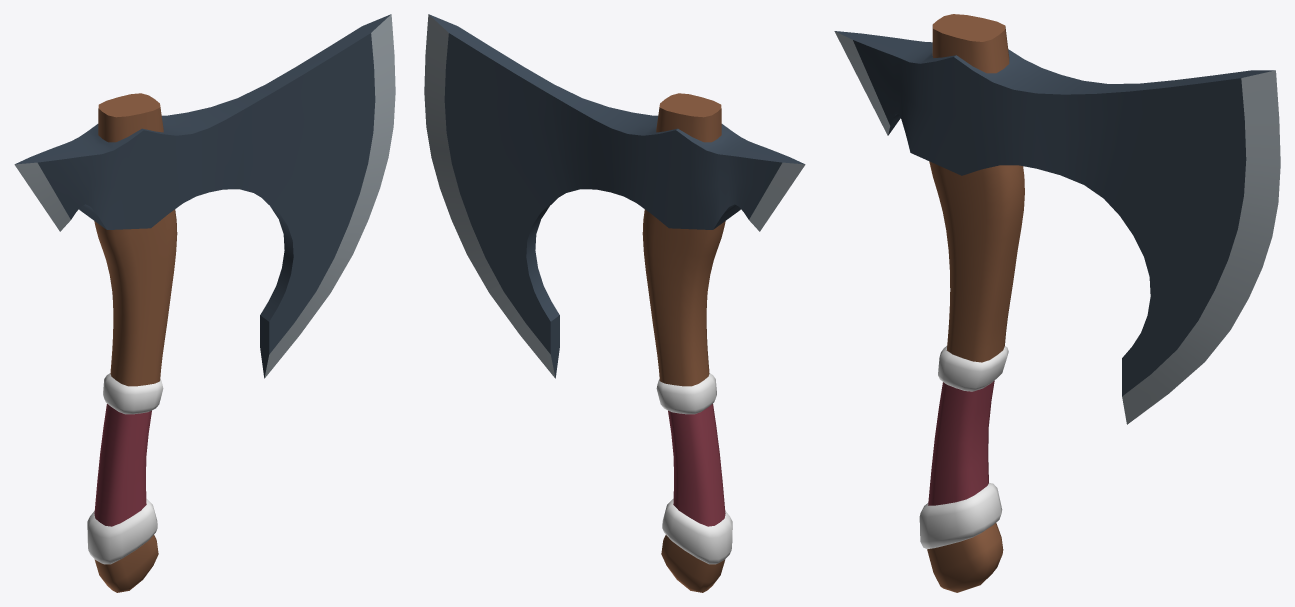
The model's file is Axe.fbx.
3 views of the same model, side by side, from view 1: azimuth 30°, elevation 25°; view 2: azimuth 150°, elevation 25°; view 3: azimuth 330°, elevation 25° (orthographic). The views are drawn at different scales.
Parts seen in each view (by area): view 1: Axe; view 2: Axe; view 3: Axe.
Boxes of the visible parts, <box> form: Axe: <box>14,14,395,592</box>; Axe: <box>424,14,805,592</box>; Axe: <box>834,14,1280,592</box>.
Size of the model in its own units: 0.679 by 0.8664 by 0.091.
